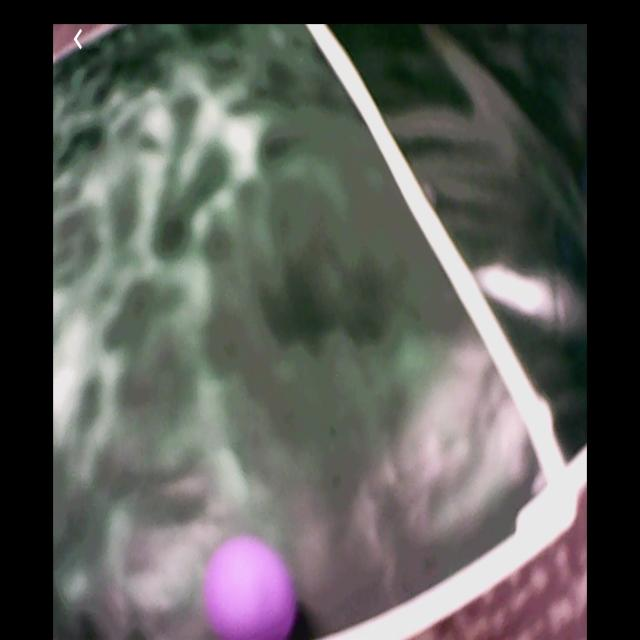ball: (202, 537, 299, 639)
